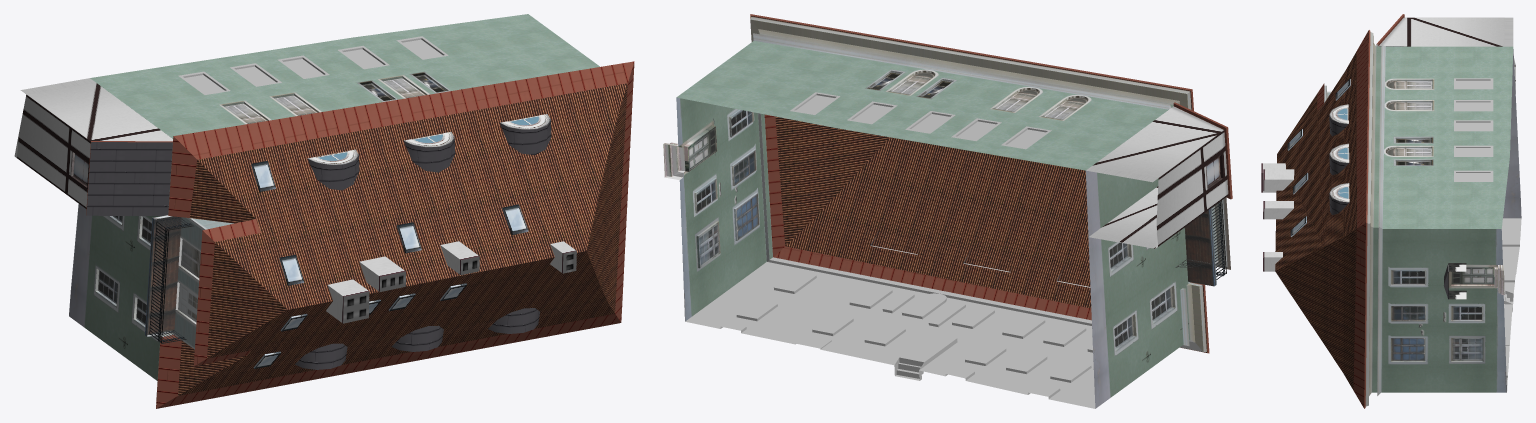
File: Toom-Kooli_15_1.obj
3 renders of one model, left to right at view 1: azimuth 30°, elevation 25°; view 2: azimuth 150°, elevation 25°; view 3: azimuth 270°, elevation 25°, orthographic. The views are drawn at different scales.
Visible parts, largest first — view 1: Toom_Kooli_15_1; view 2: Toom_Kooli_15_1; view 3: Toom_Kooli_15_1.
Boxes of the visible parts, box(x1,y1,x2,y2) form: Toom_Kooli_15_1: box(14, 14, 634, 408); Toom_Kooli_15_1: box(663, 14, 1232, 408); Toom_Kooli_15_1: box(1261, 14, 1521, 408).
Size of the model in its own units: 32.82 by 17.42 by 18.85.
